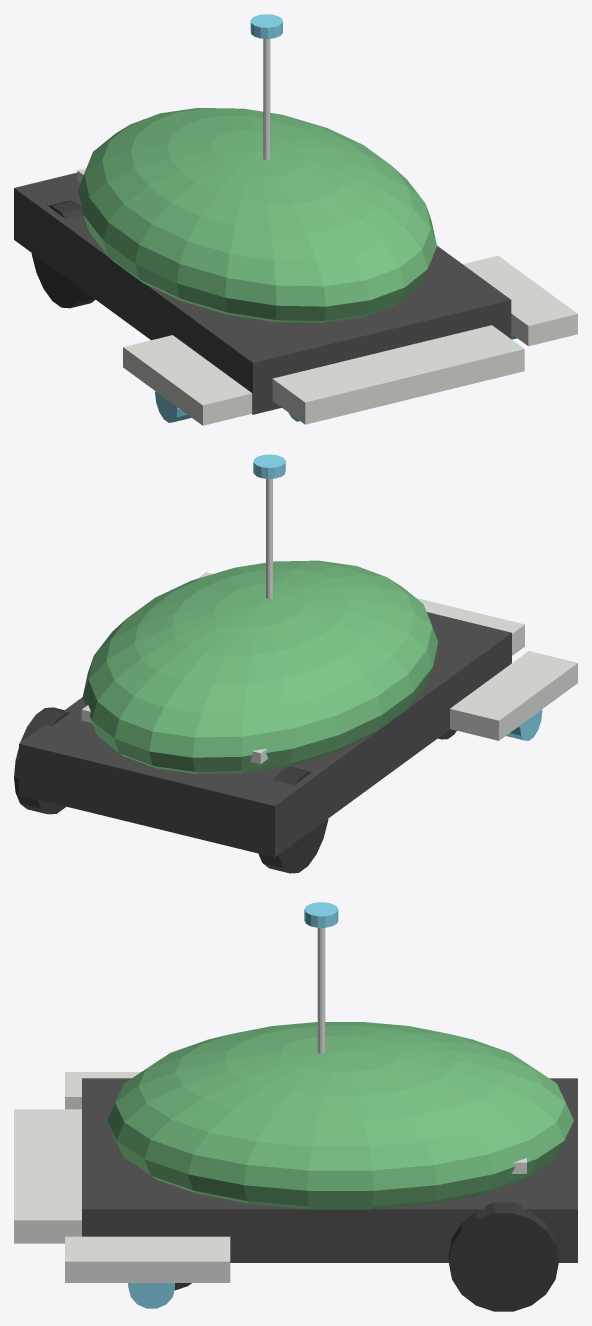
File: mower_fairway.glb
3 renders of one model, top to bottom at view 1: azimuth 30°, elevation 25°; view 2: azimuth 150°, elevation 25°; view 3: azimuth 270°, elevation 25°, orthographic. The views are drawn at different scales.
Parts seen in each view (by area): view 1: RobotMowerFairway; view 2: RobotMowerFairway; view 3: RobotMowerFairway.
Part boxes in pixels (x1=…): RobotMowerFairway: x1=14, y1=14, x2=577, y2=425; RobotMowerFairway: x1=14, y1=454, x2=577, y2=873; RobotMowerFairway: x1=14, y1=902, x2=577, y2=1311.
Bounding box in the file's own units: 2.12 × 1.72 × 2.66.
